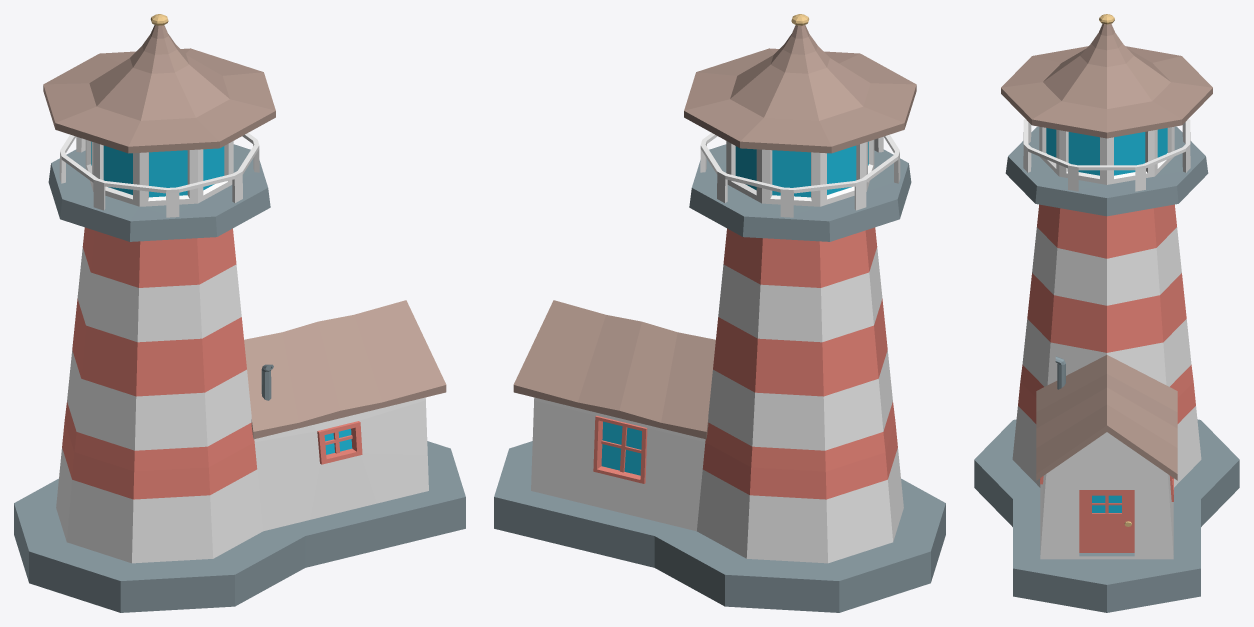
File: lighthouse.glb
The picture shows the model from 3 angles, left to right: view 1: azimuth 30°, elevation 25°; view 2: azimuth 150°, elevation 25°; view 3: azimuth 270°, elevation 25°; orthographic projection. The views are drawn at different scales.
Parts seen in each view (by area): view 1: Object_6, Object_9, Object_4, Object_5, Object_7; view 2: Object_6, Object_9, Object_4, Object_5, Object_7; view 3: Object_6, Object_9, Object_4, Object_5, Object_7.
Boxes of the visible parts, bbox=[...] form: Object_6: bbox=[56, 133, 428, 563]; Object_9: bbox=[43, 25, 446, 439]; Object_4: bbox=[14, 144, 465, 612]; Object_5: bbox=[62, 227, 362, 499]; Object_7: bbox=[91, 141, 352, 454]; Object_6: bbox=[531, 133, 903, 563]; Object_9: bbox=[513, 25, 916, 439]; Object_4: bbox=[494, 144, 945, 612]; Object_5: bbox=[593, 227, 897, 499]; Object_7: bbox=[601, 141, 868, 475]; Object_6: bbox=[1012, 118, 1201, 559]; Object_9: bbox=[1001, 24, 1212, 480]; Object_4: bbox=[974, 126, 1239, 612]; Object_5: bbox=[1018, 204, 1195, 552]; Object_7: bbox=[1046, 128, 1167, 512].
Bounding box in the file's own units: 2.98 × 3.62 × 1.84.
